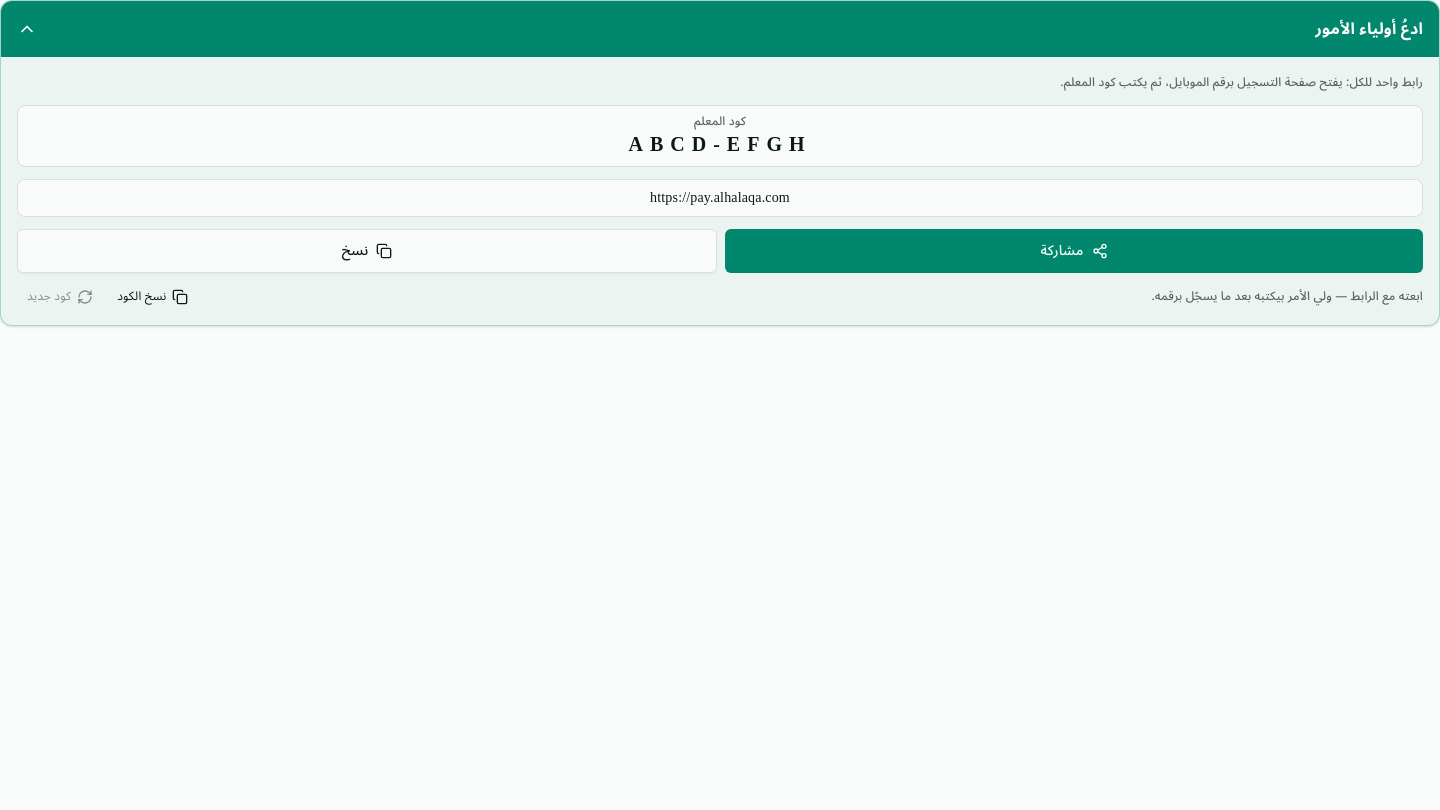
Test case: ShareEntryCard › recovers the new code when the rotation response is lost
What coordinates should you click on to do the following:
click the button with test id "share-entry-rotate"
I would click on:
 (60, 296)
Its box is [17,284,103,308].
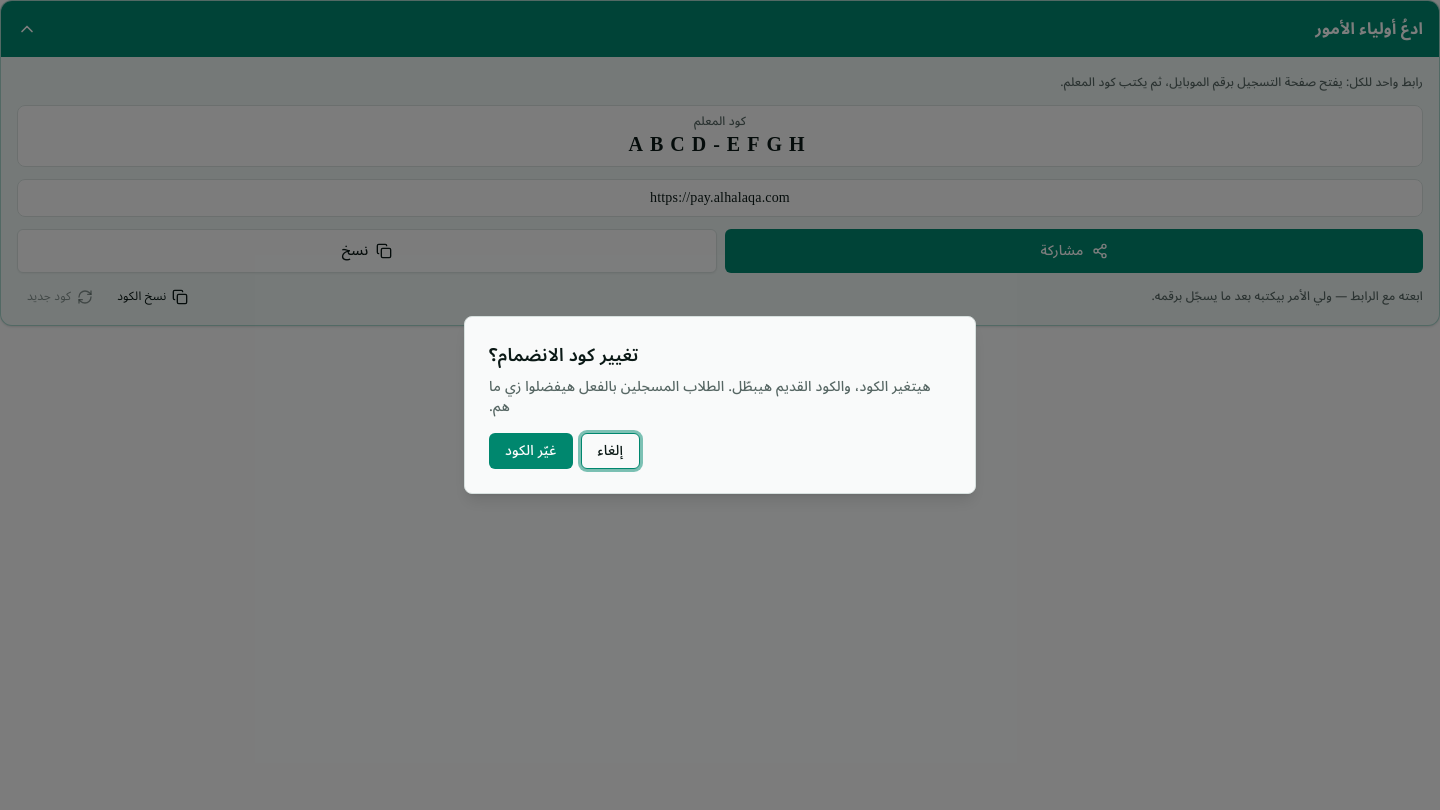
What coordinates should you click on to do the following:
click the button with test id "share-entry-rotate-confirm"
I would click on:
 (531, 451)
Its box is [489,433,572,469].
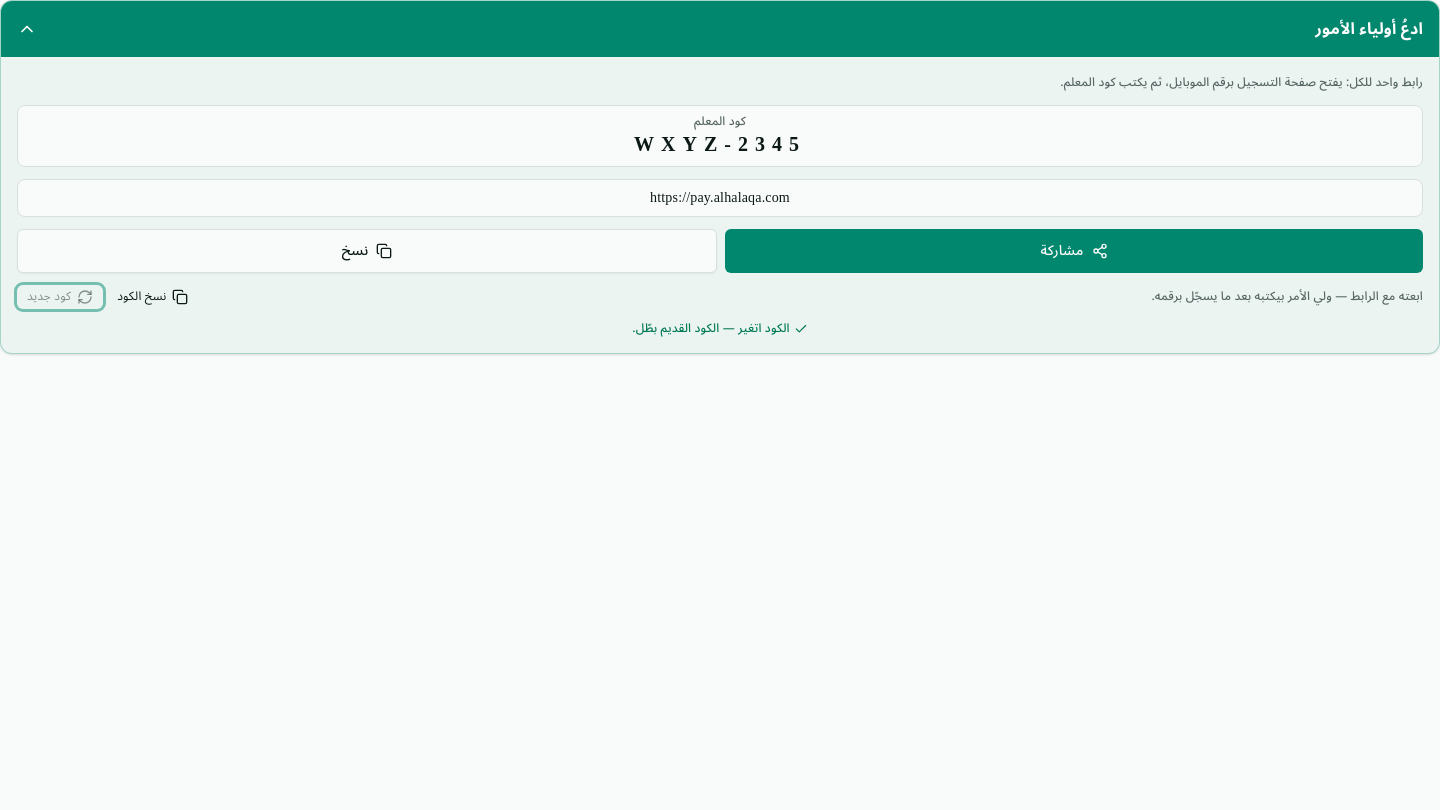
expect the text with test id "share-entry-code" reads "WXYZ-2345": met, box [634,132,806,154]
expect the element with test id "share-entry-rotate-ok" is shown: met, box [632,316,808,340]
